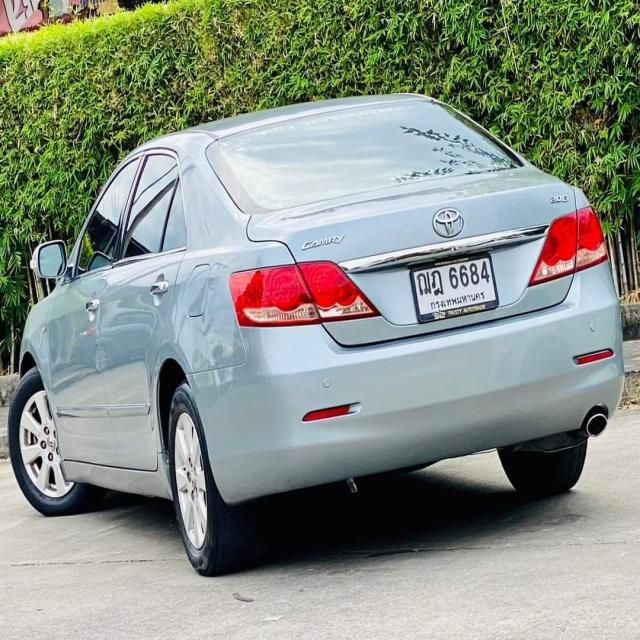license_plate: (410, 249, 499, 324)
